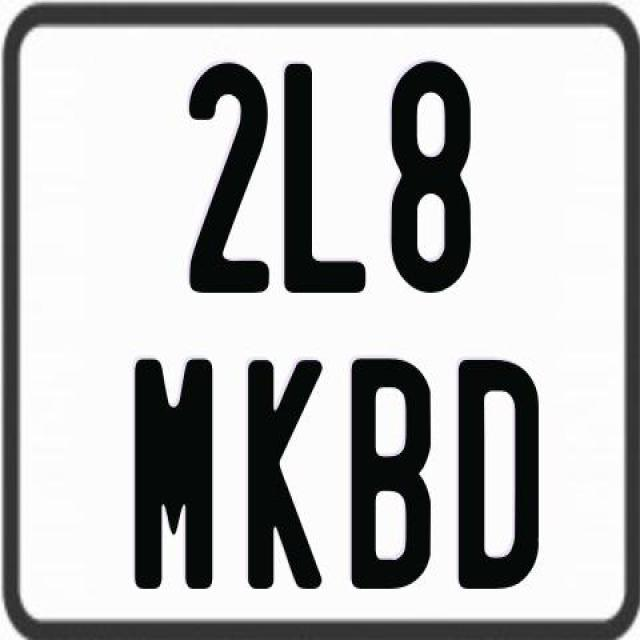2: (189, 58, 271, 293)
8: (388, 56, 470, 291)
B: (348, 354, 426, 584)
D: (456, 359, 542, 591)
K: (244, 360, 326, 589)
L: (284, 60, 366, 295)
M: (131, 357, 209, 589)
